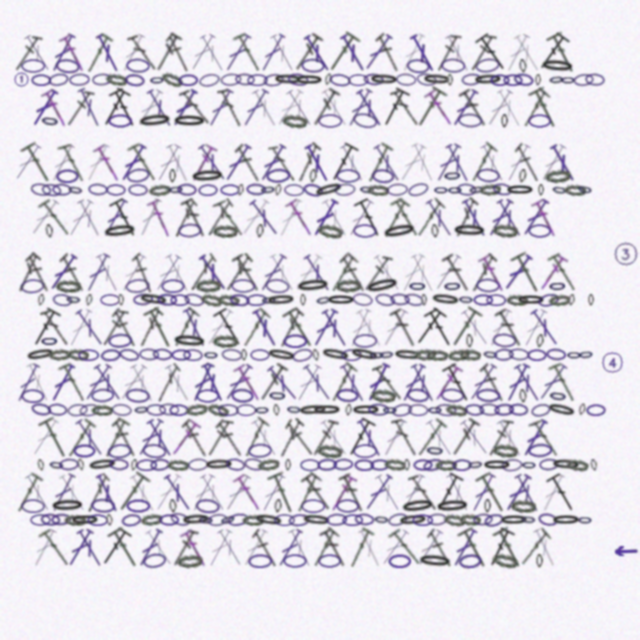chain: (364, 275, 401, 296), (381, 221, 418, 241), (102, 222, 138, 240), (400, 497, 436, 515), (137, 112, 173, 129), (295, 277, 331, 294), (313, 180, 345, 199), (417, 553, 453, 569), (540, 58, 575, 74), (190, 168, 225, 184), (172, 333, 207, 349), (435, 498, 470, 514), (546, 401, 577, 419), (491, 551, 519, 570), (25, 346, 56, 363), (320, 346, 351, 363), (349, 346, 380, 363), (452, 223, 487, 238), (50, 498, 85, 513), (316, 222, 344, 240), (266, 347, 297, 363), (253, 512, 284, 528), (352, 111, 378, 130), (172, 114, 207, 128), (138, 292, 169, 307), (430, 292, 461, 307), (87, 457, 118, 472), (160, 70, 184, 89), (301, 513, 332, 527), (281, 113, 308, 129), (544, 168, 571, 184), (316, 443, 343, 459), (176, 553, 203, 569), (475, 57, 500, 74), (142, 552, 167, 569), (266, 293, 296, 307), (393, 348, 423, 362), (298, 403, 328, 417), (398, 513, 428, 527), (126, 167, 150, 184), (406, 387, 430, 404), (55, 58, 80, 74), (20, 278, 45, 294), (125, 278, 150, 294), (265, 278, 290, 294), (107, 443, 132, 459), (142, 443, 167, 459), (195, 498, 220, 514), (407, 181, 430, 198), (273, 73, 303, 86), (369, 73, 399, 86), (422, 73, 452, 86), (473, 73, 503, 86), (492, 223, 518, 238), (195, 278, 221, 293), (335, 278, 361, 293), (370, 388, 396, 403), (492, 443, 518, 458), (204, 458, 234, 471), (551, 458, 581, 471), (181, 513, 211, 526), (406, 58, 430, 74), (371, 168, 395, 184), (206, 402, 230, 418), (458, 553, 482, 569), (492, 333, 517, 348), (125, 388, 150, 403), (440, 388, 465, 403), (169, 511, 191, 528), (387, 511, 409, 528), (198, 72, 221, 88), (200, 292, 223, 308), (537, 292, 560, 308), (291, 347, 314, 363), (212, 224, 238, 238), (55, 279, 81, 293), (212, 334, 238, 348), (510, 499, 536, 513), (126, 58, 150, 73), (301, 58, 325, 73), (441, 58, 465, 73), (294, 74, 324, 86), (458, 113, 482, 128), (266, 168, 290, 183), (476, 168, 500, 183), (505, 184, 535, 196), (178, 223, 202, 238), (476, 278, 500, 293), (326, 294, 356, 306), (516, 294, 546, 306), (108, 333, 132, 348), (476, 388, 500, 403), (312, 404, 342, 416), (351, 404, 381, 416), (248, 443, 272, 458), (528, 443, 552, 458), (482, 459, 512, 471), (91, 498, 115, 513), (70, 514, 100, 526), (499, 514, 529, 526), (551, 514, 581, 526), (302, 182, 324, 198), (183, 292, 205, 308), (374, 292, 396, 308), (403, 292, 425, 308), (118, 347, 140, 363), (391, 402, 413, 418), (530, 402, 552, 418), (422, 457, 444, 473), (483, 512, 505, 528), (105, 72, 128, 87), (91, 388, 114, 403), (231, 388, 254, 403), (336, 388, 359, 403), (185, 402, 208, 417), (257, 457, 280, 472), (140, 512, 163, 527), (21, 59, 45, 73), (108, 114, 132, 128), (318, 114, 342, 128), (336, 169, 360, 183), (353, 224, 377, 238), (161, 279, 185, 293), (231, 279, 255, 293), (283, 334, 307, 348), (353, 334, 377, 348), (353, 444, 377, 458), (21, 499, 45, 513), (126, 499, 150, 513), (301, 499, 325, 513), (248, 554, 272, 568), (283, 554, 307, 568), (287, 72, 309, 87), (30, 182, 52, 197), (30, 402, 52, 417), (243, 457, 265, 472), (227, 512, 249, 527), (537, 512, 559, 527), (528, 114, 551, 128), (56, 169, 79, 183), (148, 183, 171, 197), (528, 224, 551, 238), (217, 293, 240, 307), (548, 293, 571, 307), (447, 348, 470, 362), (21, 389, 44, 403), (196, 389, 219, 403), (445, 403, 468, 417), (73, 444, 96, 458), (566, 458, 589, 472), (336, 499, 359, 513), (443, 513, 466, 527), (318, 554, 341, 568), (388, 554, 411, 568), (40, 113, 60, 129), (548, 388, 568, 404), (48, 72, 69, 87), (416, 72, 437, 87), (513, 72, 534, 87), (492, 182, 513, 197), (352, 292, 373, 307), (225, 457, 246, 472), (329, 73, 351, 87), (221, 348, 243, 362), (435, 403, 457, 417), (501, 458, 523, 472), (288, 513, 310, 527), (425, 443, 445, 458), (48, 348, 71, 361), (124, 73, 145, 87), (263, 73, 284, 87), (573, 73, 594, 87), (41, 183, 62, 197), (52, 293, 73, 307), (229, 293, 250, 307), (100, 348, 121, 362), (67, 403, 88, 417), (79, 403, 100, 417), (111, 403, 132, 417), (464, 403, 485, 417), (121, 513, 142, 527), (207, 513, 228, 527), (220, 73, 242, 86), (334, 183, 356, 196), (479, 183, 501, 196), (67, 348, 89, 361), (414, 348, 436, 361), (459, 348, 481, 361), (508, 348, 530, 361), (384, 458, 406, 471), (459, 513, 481, 526), (443, 168, 462, 183), (268, 388, 287, 403), (69, 73, 90, 86), (363, 73, 384, 86), (461, 73, 482, 86), (387, 183, 408, 196), (456, 183, 477, 196), (152, 348, 173, 361), (47, 403, 68, 416), (368, 403, 389, 416), (479, 403, 500, 416), (508, 403, 529, 416), (40, 513, 61, 526), (326, 513, 347, 526), (354, 513, 375, 526), (576, 182, 594, 197), (219, 512, 237, 527), (408, 279, 427, 293), (443, 279, 462, 293), (548, 279, 567, 293), (40, 334, 59, 348), (367, 184, 389, 196), (564, 184, 586, 196), (506, 294, 528, 306), (426, 349, 448, 361), (91, 404, 113, 416), (167, 459, 189, 471), (435, 459, 457, 471), (64, 514, 86, 526), (242, 514, 264, 526), (92, 73, 112, 86), (235, 73, 255, 86), (396, 73, 416, 86), (585, 73, 605, 86), (52, 183, 72, 196), (88, 183, 108, 196), (177, 183, 197, 196), (246, 183, 266, 196), (133, 293, 153, 306), (157, 293, 177, 306), (390, 293, 410, 306), (139, 348, 159, 361), (494, 348, 514, 361), (546, 348, 566, 361), (159, 403, 179, 416), (494, 403, 514, 416), (59, 458, 79, 471), (109, 458, 129, 471), (150, 458, 170, 471), (188, 458, 208, 471), (317, 458, 337, 471), (333, 458, 353, 471), (539, 458, 559, 471), (51, 513, 71, 526), (427, 513, 447, 526), (473, 513, 493, 526), (247, 74, 268, 86), (348, 74, 369, 86), (246, 294, 267, 306), (78, 349, 99, 361), (341, 349, 362, 361), (218, 404, 239, 416), (136, 459, 157, 471), (30, 514, 51, 526), (87, 514, 108, 526), (274, 514, 295, 526), (342, 514, 363, 526), (412, 514, 433, 526), (31, 74, 51, 86), (178, 74, 198, 86), (490, 74, 510, 86), (503, 74, 523, 86), (106, 184, 126, 196), (128, 184, 148, 196), (198, 184, 218, 196), (220, 184, 240, 196), (284, 184, 304, 196), (100, 294, 120, 306), (170, 294, 190, 306), (473, 294, 493, 306), (486, 294, 506, 306), (171, 349, 191, 361), (183, 349, 203, 361), (250, 349, 270, 361), (527, 349, 547, 361), (146, 404, 166, 416), (169, 404, 189, 416), (236, 404, 256, 416), (408, 404, 428, 416), (586, 404, 606, 416), (300, 459, 320, 471), (354, 459, 374, 471), (370, 459, 390, 471), (413, 459, 433, 471), (452, 459, 472, 471), (159, 514, 179, 526), (67, 183, 84, 197), (551, 183, 568, 197), (315, 293, 332, 307), (48, 458, 65, 472), (548, 73, 565, 86), (468, 183, 485, 196), (65, 293, 82, 306), (378, 348, 395, 361), (482, 348, 499, 361), (133, 403, 150, 416), (467, 458, 484, 471), (373, 513, 390, 526), (520, 513, 537, 526), (168, 183, 184, 196), (260, 183, 276, 196), (359, 183, 375, 196), (458, 293, 474, 306), (578, 348, 594, 361), (286, 403, 302, 416), (149, 74, 165, 86), (560, 74, 576, 86), (433, 184, 449, 196), (447, 184, 463, 196), (261, 294, 277, 306), (203, 349, 219, 361), (369, 349, 385, 361), (566, 349, 582, 361), (254, 404, 270, 416), (382, 404, 398, 416), (427, 404, 443, 416), (521, 459, 537, 471), (198, 514, 214, 526), (577, 514, 593, 526), (518, 169, 527, 183), (45, 224, 54, 238), (519, 59, 527, 73), (309, 169, 317, 183), (256, 224, 264, 238), (431, 224, 439, 238), (536, 334, 544, 348), (519, 389, 527, 403), (169, 499, 177, 513), (274, 499, 282, 513), (324, 73, 332, 86), (578, 403, 586, 416), (77, 458, 85, 471), (501, 114, 508, 128), (169, 169, 176, 183), (466, 334, 473, 348), (484, 499, 491, 513), (536, 554, 543, 568), (274, 184, 282, 196), (37, 294, 45, 306), (85, 294, 93, 306), (312, 349, 320, 361), (37, 459, 45, 471), (130, 459, 138, 471), (590, 459, 598, 471), (237, 184, 244, 196), (568, 294, 575, 306), (273, 404, 280, 416), (345, 404, 352, 416), (106, 514, 113, 526), (447, 74, 453, 86), (535, 74, 541, 86), (538, 184, 544, 196), (118, 294, 124, 306), (300, 294, 306, 306), (421, 294, 427, 306), (588, 294, 594, 306), (241, 349, 247, 361), (285, 459, 291, 471), (404, 459, 410, 471)
double: (324, 31, 361, 75), (114, 471, 151, 515), (474, 31, 511, 74), (534, 31, 571, 74), (411, 306, 448, 349), (412, 86, 448, 130), (20, 141, 56, 185), (282, 306, 318, 350), (447, 306, 483, 350), (107, 526, 143, 570), (97, 526, 133, 569), (510, 251, 545, 295), (475, 471, 510, 515), (545, 471, 580, 515), (457, 526, 492, 570), (492, 526, 527, 570), (516, 527, 553, 568), (212, 306, 247, 349), (546, 31, 580, 75), (98, 86, 132, 130), (528, 86, 562, 130), (326, 141, 360, 185), (108, 196, 142, 240), (28, 306, 62, 350), (143, 306, 177, 350), (423, 306, 457, 350), (441, 361, 475, 405), (38, 416, 72, 460), (343, 416, 377, 460), (431, 471, 465, 515), (412, 417, 448, 458), (387, 527, 423, 568), (37, 197, 72, 239), (212, 197, 247, 239), (412, 197, 447, 239), (62, 417, 97, 459), (37, 527, 72, 569), (108, 86, 141, 130), (378, 86, 411, 130), (353, 196, 386, 240), (265, 363, 301, 403), (195, 142, 230, 183), (27, 197, 62, 238), (247, 197, 282, 238), (500, 252, 535, 293), (300, 362, 335, 403), (535, 362, 570, 403), (457, 417, 492, 458), (300, 472, 335, 513), (377, 527, 412, 568), (518, 87, 552, 129), (291, 252, 325, 294), (326, 252, 360, 294), (238, 307, 272, 349), (528, 417, 562, 459), (126, 141, 159, 184), (466, 141, 499, 184), (546, 251, 579, 294), (326, 361, 359, 404), (11, 471, 44, 514), (308, 526, 341, 569), (267, 471, 299, 515), (484, 526, 516, 570), (361, 32, 395, 73), (238, 197, 272, 238), (46, 252, 80, 293), (196, 252, 230, 293), (73, 307, 107, 348), (458, 307, 492, 348), (528, 307, 562, 348), (91, 362, 125, 403), (116, 362, 150, 403), (221, 362, 255, 403), (73, 417, 107, 458), (161, 472, 195, 513), (361, 472, 395, 513), (21, 32, 54, 74), (81, 32, 114, 74), (221, 32, 254, 74), (291, 32, 324, 74), (301, 32, 334, 74), (511, 32, 544, 74), (28, 87, 61, 129), (133, 87, 166, 129), (273, 87, 306, 129), (283, 87, 316, 129), (353, 87, 386, 129), (448, 87, 481, 129), (458, 87, 491, 129), (483, 87, 516, 129), (221, 142, 254, 184), (256, 142, 289, 184), (371, 142, 404, 184), (396, 142, 429, 184), (378, 197, 411, 239), (423, 197, 456, 239), (151, 252, 184, 294), (231, 252, 264, 294), (256, 252, 289, 294), (301, 252, 334, 294), (441, 252, 474, 294), (353, 307, 386, 349), (256, 362, 289, 404), (511, 362, 544, 404), (248, 417, 281, 459), (423, 417, 456, 459), (448, 417, 481, 459), (56, 472, 89, 514), (221, 472, 254, 514), (501, 472, 534, 514), (413, 527, 446, 569), (362, 141, 394, 184), (389, 196, 421, 239), (169, 306, 201, 349), (99, 416, 131, 459), (239, 416, 271, 459), (168, 418, 202, 458), (423, 87, 456, 128), (11, 142, 44, 183), (371, 252, 404, 293), (431, 252, 464, 293), (536, 252, 569, 293), (203, 307, 236, 348), (81, 362, 114, 403), (431, 362, 464, 403), (466, 362, 499, 403), (318, 417, 351, 458), (143, 527, 176, 568), (337, 32, 369, 74), (407, 32, 439, 74), (442, 32, 474, 74), (144, 87, 176, 129), (204, 87, 236, 129), (239, 87, 271, 129), (249, 87, 281, 129), (309, 87, 341, 129), (117, 142, 149, 184), (152, 142, 184, 184), (432, 142, 464, 184), (537, 142, 569, 184), (547, 142, 579, 184), (64, 197, 96, 239), (309, 197, 341, 239), (319, 197, 351, 239), (344, 197, 376, 239), (484, 197, 516, 239), (117, 252, 149, 294), (249, 307, 281, 349), (309, 307, 341, 349), (319, 307, 351, 349), (379, 307, 411, 349), (494, 307, 526, 349), (162, 362, 194, 404), (292, 362, 324, 404), (337, 362, 369, 404), (144, 417, 176, 459), (494, 417, 526, 459), (127, 472, 159, 514), (372, 472, 404, 514), (64, 527, 96, 569), (74, 527, 106, 569), (239, 527, 271, 569), (232, 31, 263, 74), (57, 141, 88, 184), (57, 361, 88, 404), (547, 361, 578, 404), (292, 471, 323, 514), (344, 526, 375, 569), (319, 87, 351, 128), (284, 197, 316, 238), (519, 197, 551, 238), (232, 362, 264, 403), (29, 417, 61, 458), (134, 417, 166, 458), (22, 472, 54, 513), (152, 472, 184, 513), (197, 472, 229, 513), (232, 472, 264, 513), (214, 527, 246, 568), (47, 32, 78, 74), (152, 32, 183, 74), (197, 32, 228, 74), (257, 32, 288, 74), (267, 32, 298, 74), (502, 32, 533, 74), (169, 87, 200, 129), (344, 87, 375, 129), (494, 87, 525, 129), (47, 142, 78, 184), (82, 142, 113, 184), (92, 142, 123, 184), (302, 142, 333, 184), (337, 142, 368, 184), (477, 142, 508, 184), (74, 197, 105, 239), (459, 197, 490, 239), (494, 197, 525, 239), (82, 252, 113, 294), (162, 252, 193, 294), (397, 252, 428, 294), (477, 252, 508, 294), (389, 307, 420, 349), (519, 307, 550, 349), (47, 362, 78, 404), (127, 362, 158, 404), (502, 362, 533, 404), (354, 417, 385, 459), (379, 417, 410, 459), (519, 417, 550, 459), (257, 472, 288, 514), (327, 472, 358, 514), (512, 472, 543, 514), (29, 527, 60, 569), (179, 527, 210, 569), (204, 527, 235, 569), (274, 527, 305, 569), (319, 527, 350, 569), (449, 527, 480, 569), (408, 141, 438, 184), (135, 196, 165, 239), (180, 306, 210, 349), (23, 361, 53, 404), (198, 361, 228, 404), (363, 361, 393, 404), (443, 471, 473, 514), (530, 526, 560, 569), (221, 253, 254, 292), (283, 418, 316, 457), (187, 32, 218, 73), (267, 252, 298, 293), (58, 32, 88, 74), (93, 32, 123, 74), (118, 32, 148, 74), (398, 32, 428, 74), (40, 87, 70, 129), (163, 142, 193, 184), (188, 142, 218, 184), (443, 142, 473, 184), (503, 142, 533, 184), (100, 197, 130, 239), (180, 197, 210, 239), (275, 197, 305, 239), (530, 197, 560, 239), (408, 252, 438, 294), (65, 307, 95, 349), (485, 307, 515, 349), (398, 362, 428, 404), (408, 362, 438, 404), (48, 472, 78, 514), (188, 472, 218, 514), (338, 472, 368, 514), (398, 472, 428, 514), (468, 472, 498, 514), (538, 472, 568, 514), (135, 527, 165, 569), (285, 527, 315, 569), (355, 527, 385, 569), (179, 88, 211, 127), (75, 86, 104, 129), (188, 361, 217, 404), (12, 33, 43, 73), (127, 33, 158, 73), (64, 88, 95, 128), (362, 253, 393, 293), (467, 253, 498, 293), (372, 363, 403, 403), (214, 418, 245, 458), (93, 252, 122, 294), (13, 362, 42, 404), (93, 472, 122, 514), (204, 198, 235, 237), (187, 253, 218, 292), (390, 88, 420, 128), (233, 143, 263, 183), (338, 253, 368, 293), (40, 308, 70, 348), (275, 308, 305, 348), (180, 418, 210, 458), (275, 418, 305, 458), (408, 473, 438, 513), (250, 528, 280, 568), (425, 528, 455, 568), (468, 32, 497, 73), (293, 142, 322, 183), (513, 142, 542, 183), (13, 252, 42, 293), (58, 252, 87, 293), (100, 307, 129, 348), (110, 307, 139, 348), (135, 307, 164, 348), (478, 362, 507, 403), (110, 417, 139, 458), (205, 417, 234, 458), (310, 417, 339, 458), (170, 527, 199, 568), (146, 197, 174, 239), (346, 307, 374, 349), (268, 143, 297, 183), (164, 32, 192, 73), (374, 32, 402, 73), (434, 32, 462, 73), (451, 197, 479, 238), (24, 252, 52, 293), (486, 417, 514, 458), (171, 198, 199, 238), (154, 363, 182, 403), (391, 417, 418, 458), (217, 87, 243, 129), (130, 252, 156, 294), (84, 473, 111, 513)
noise: (612, 240, 639, 267), (600, 350, 625, 375), (12, 70, 30, 88), (612, 546, 638, 556)
